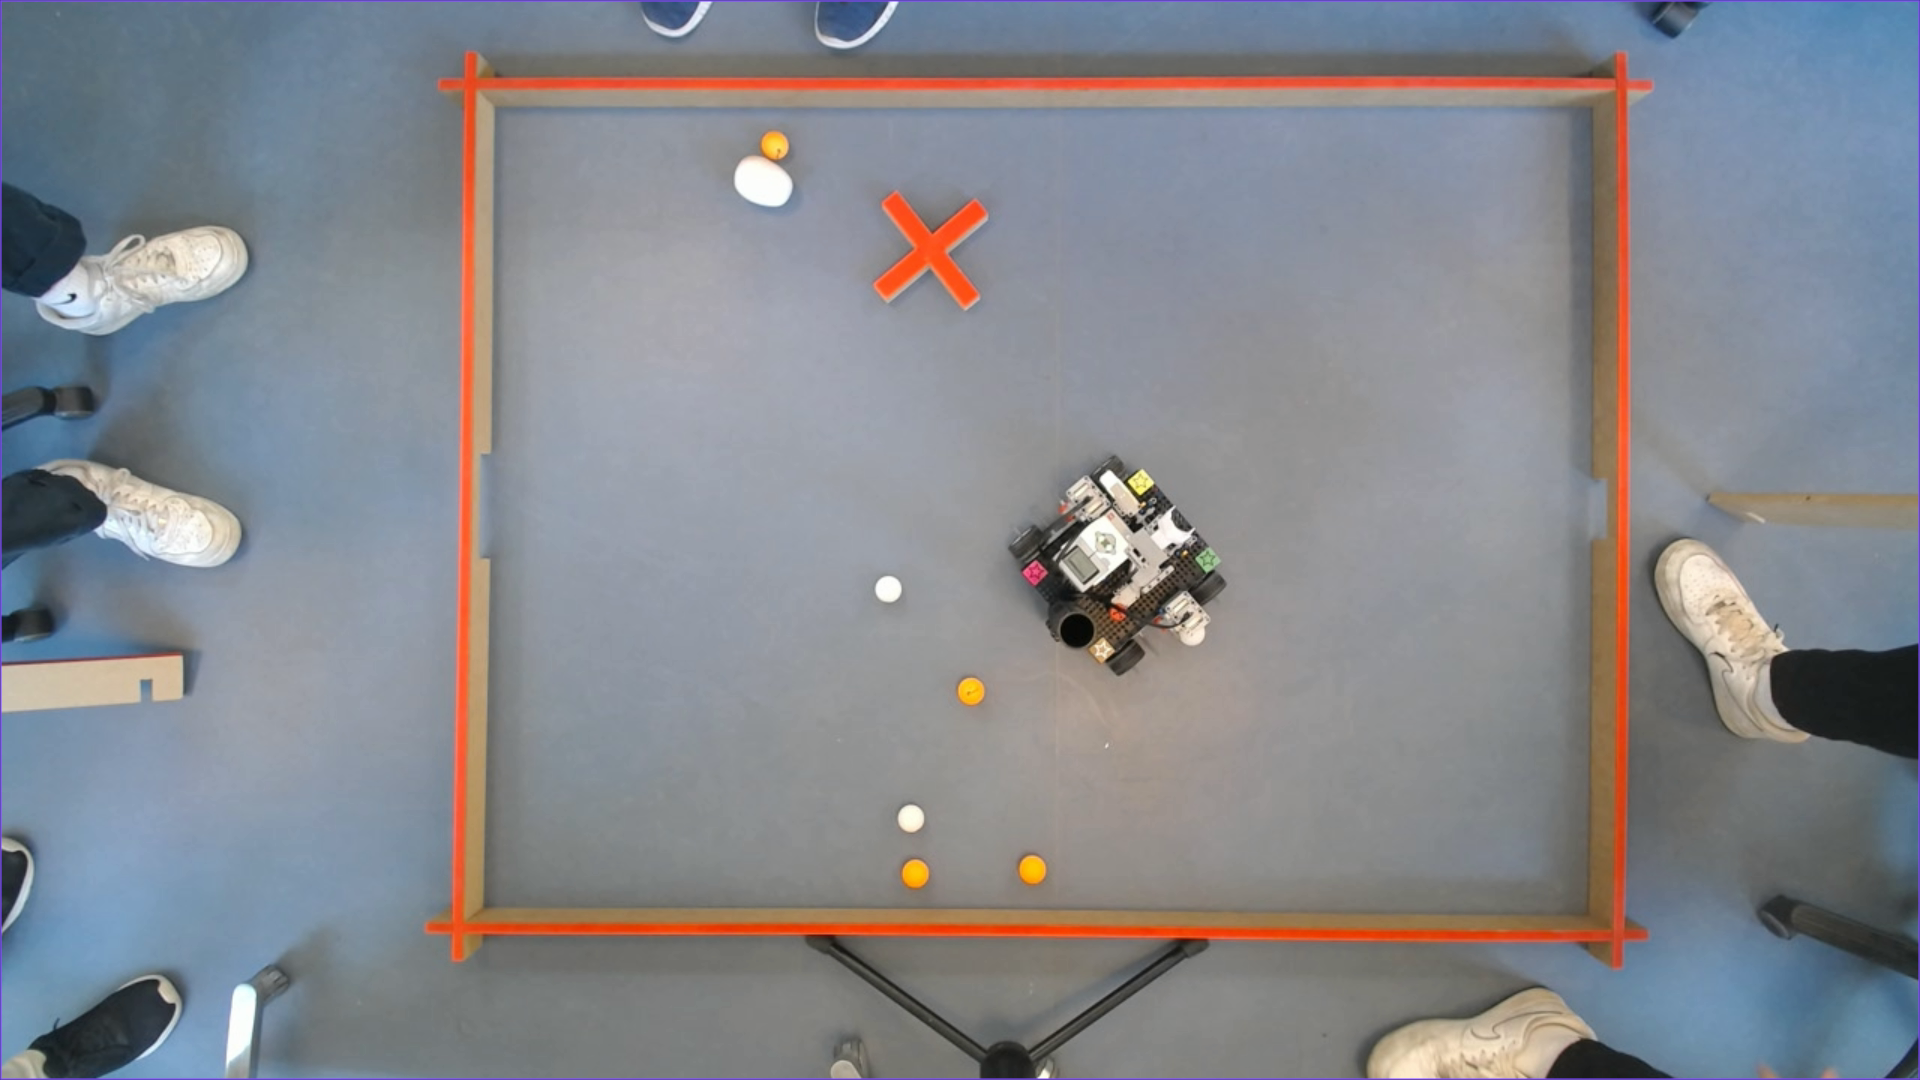ball_orange: (1018, 855, 1048, 887), (901, 858, 931, 890), (764, 128, 793, 160), (957, 676, 986, 705)
ball_white: (874, 575, 903, 604), (897, 804, 926, 833)
corner_brown: (1089, 638, 1116, 665)
corner_green: (1196, 547, 1222, 574)
corner_pink: (1022, 560, 1048, 585)
corner_yellow: (1127, 469, 1155, 495)
cross: (873, 191, 989, 313)
egg: (733, 156, 794, 208)
playfield: (452, 76, 1630, 942)
